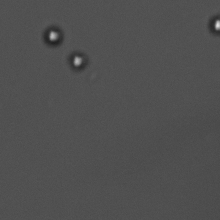Living Cell: (65, 50, 89, 73), (42, 22, 63, 46)
